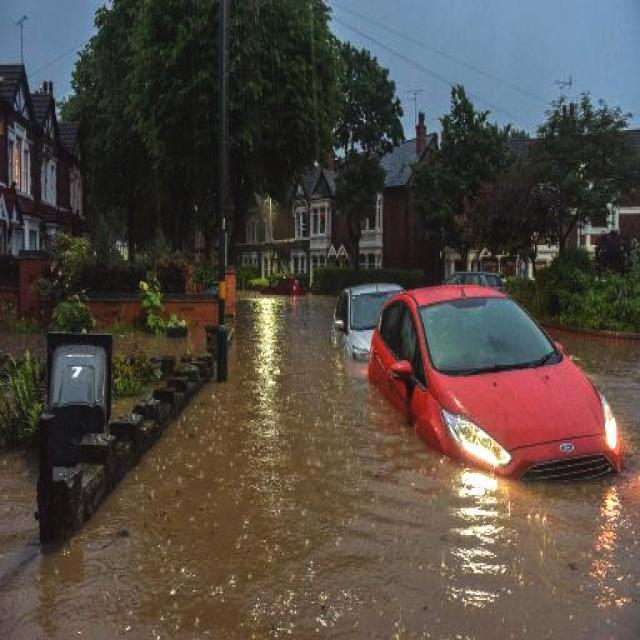water: (0, 291, 638, 638)
